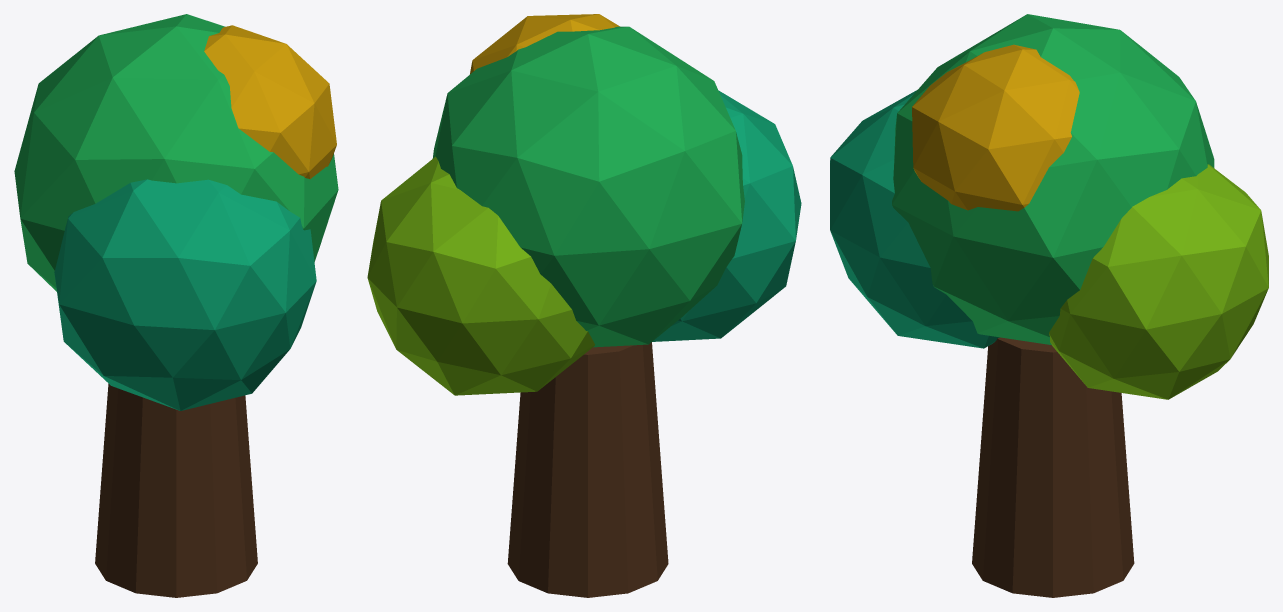
File: Oak tree.glb
The picture shows the model from 3 angles, left to right: view 1: azimuth 30°, elevation 25°; view 2: azimuth 150°, elevation 25°; view 3: azimuth 270°, elevation 25°; orthographic projection.
Parts seen in each view (by area): view 1: Vibrant_Oak_Landmark; view 2: Vibrant_Oak_Landmark; view 3: Vibrant_Oak_Landmark.
Part boxes in pixels (box(x1,y1,x2,y2)): Vibrant_Oak_Landmark: box(14, 14, 338, 597); Vibrant_Oak_Landmark: box(367, 14, 801, 597); Vibrant_Oak_Landmark: box(830, 14, 1268, 597).
Bounding box in the file's own units: 2.74 × 4.2 × 3.12.
